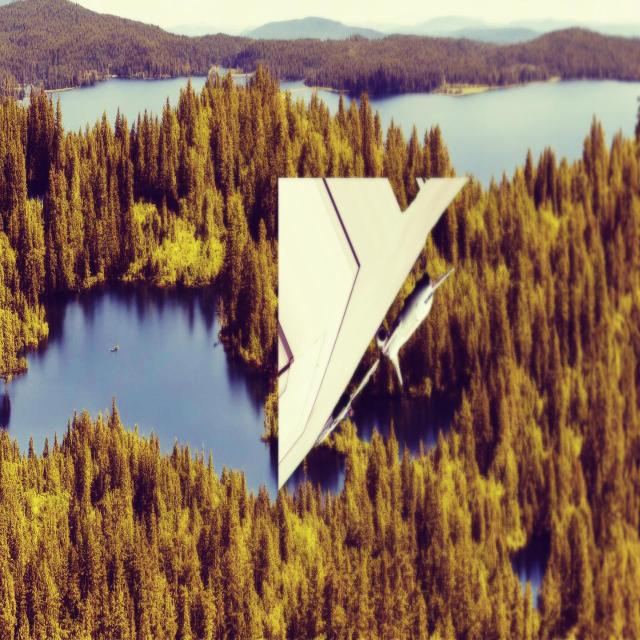airplane: (275, 172, 469, 492)
